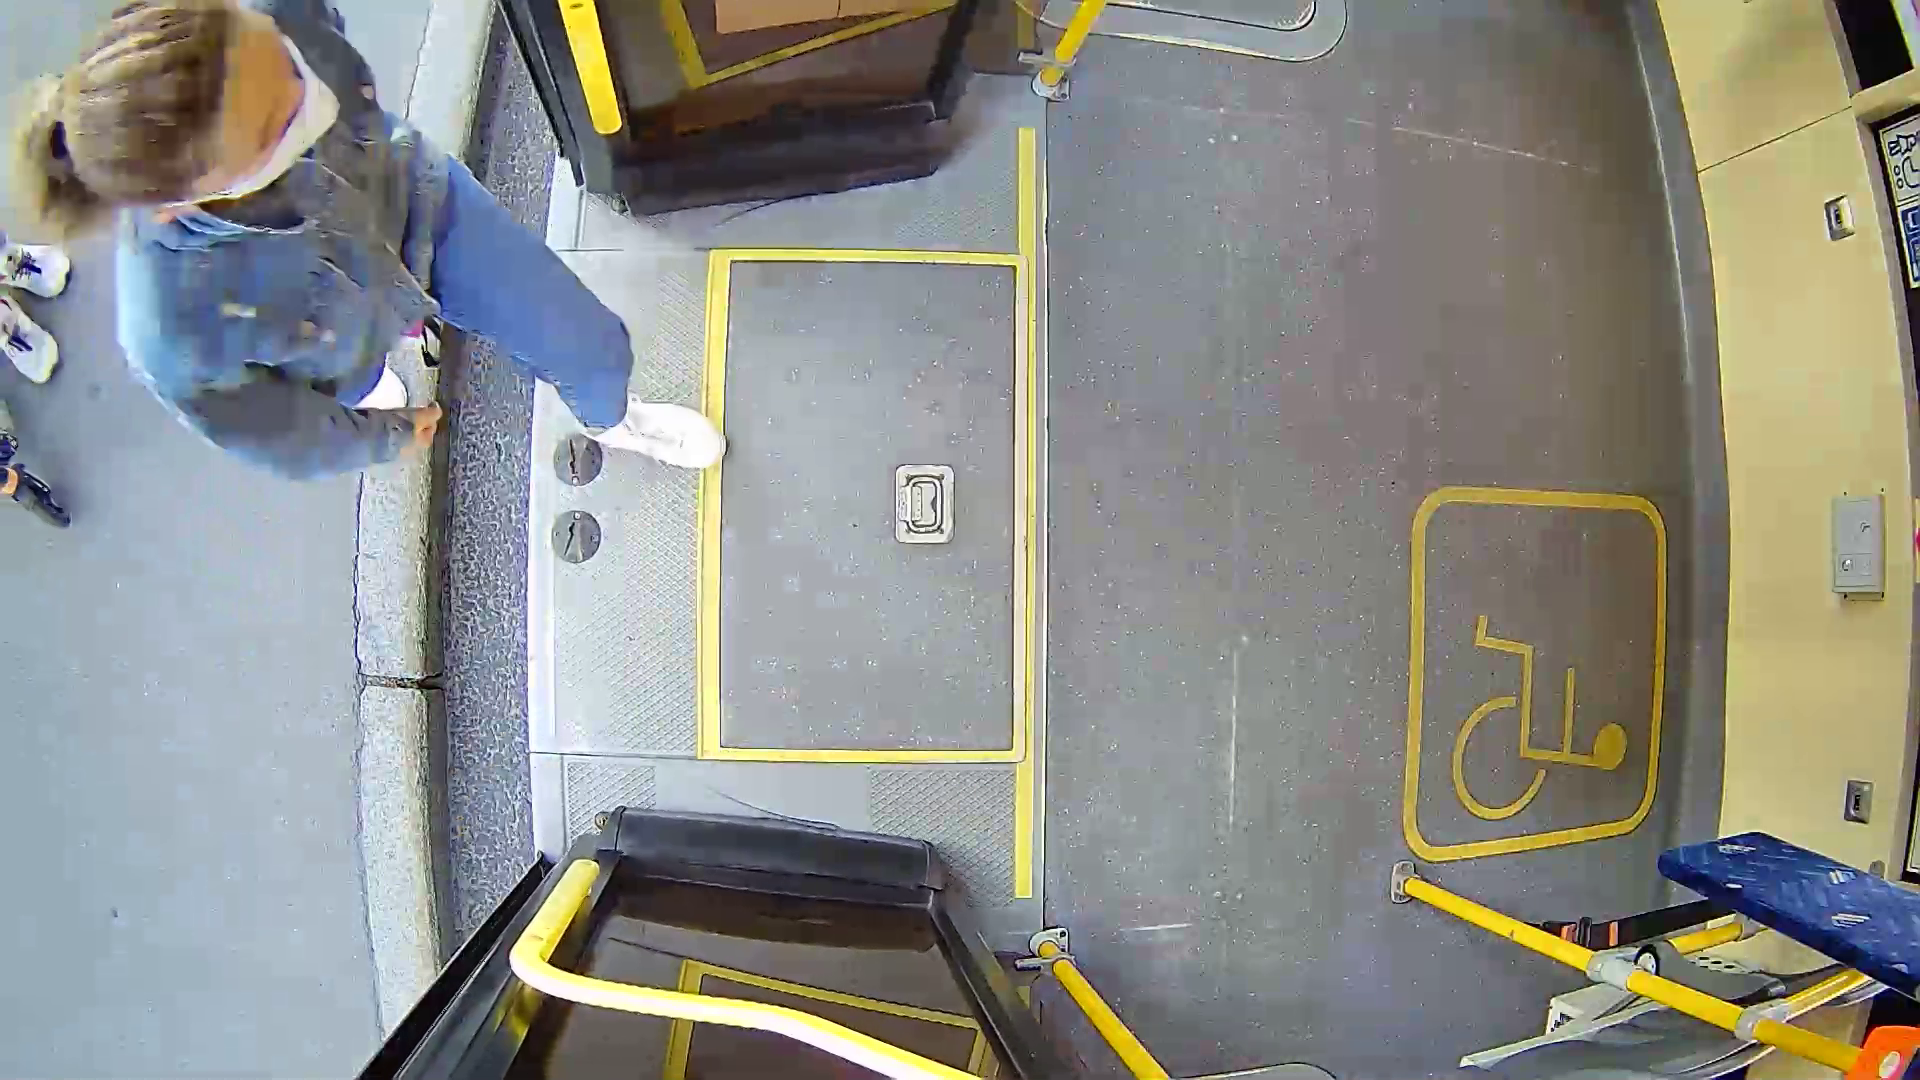person: (25, 15, 738, 529)
